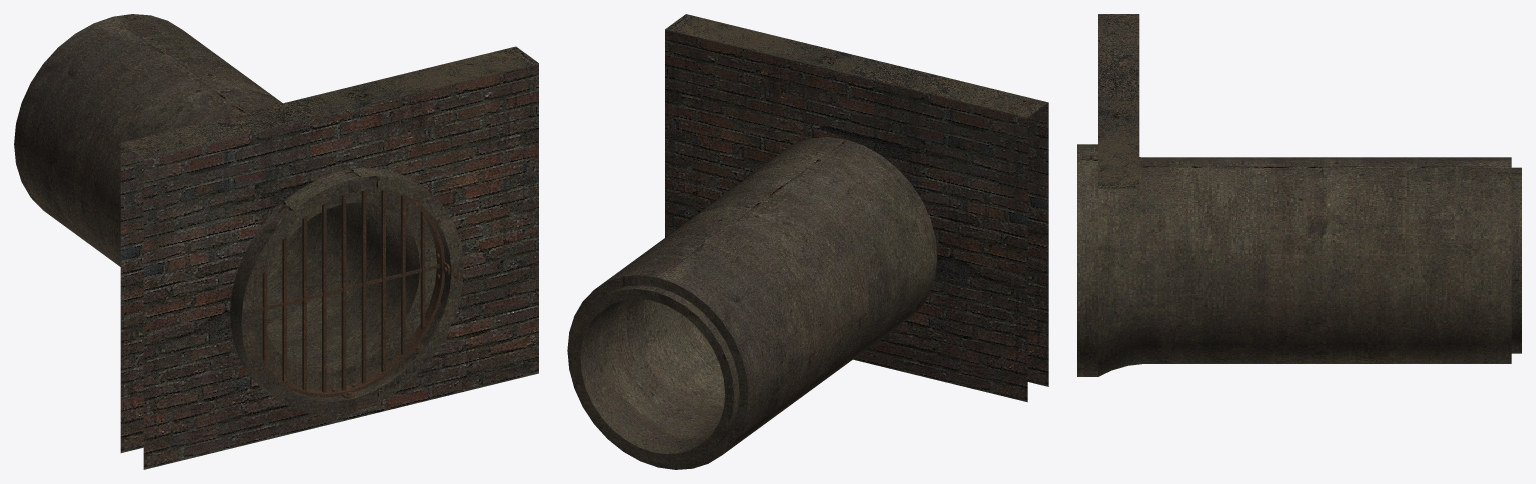
The model's file is wall_hs_1_hole_1.glb.
3 renders of one model, left to right at view 1: azimuth 30°, elevation 25°; view 2: azimuth 150°, elevation 25°; view 3: azimuth 270°, elevation 25°, orthographic. The views are drawn at different scales.
Visible parts, largest first — view 1: wall_hs_1_hole_1; view 2: wall_hs_1_hole_1; view 3: wall_hs_1_hole_1.
Part boxes in pixels (x1=…): wall_hs_1_hole_1: x1=14, y1=14, x2=538, y2=469; wall_hs_1_hole_1: x1=567, y1=14, x2=1048, y2=469; wall_hs_1_hole_1: x1=1077, y1=14, x2=1521, y2=376.
Size of the model in its own units: 4 by 3 by 4.3.
4 materials, 4 textured.
